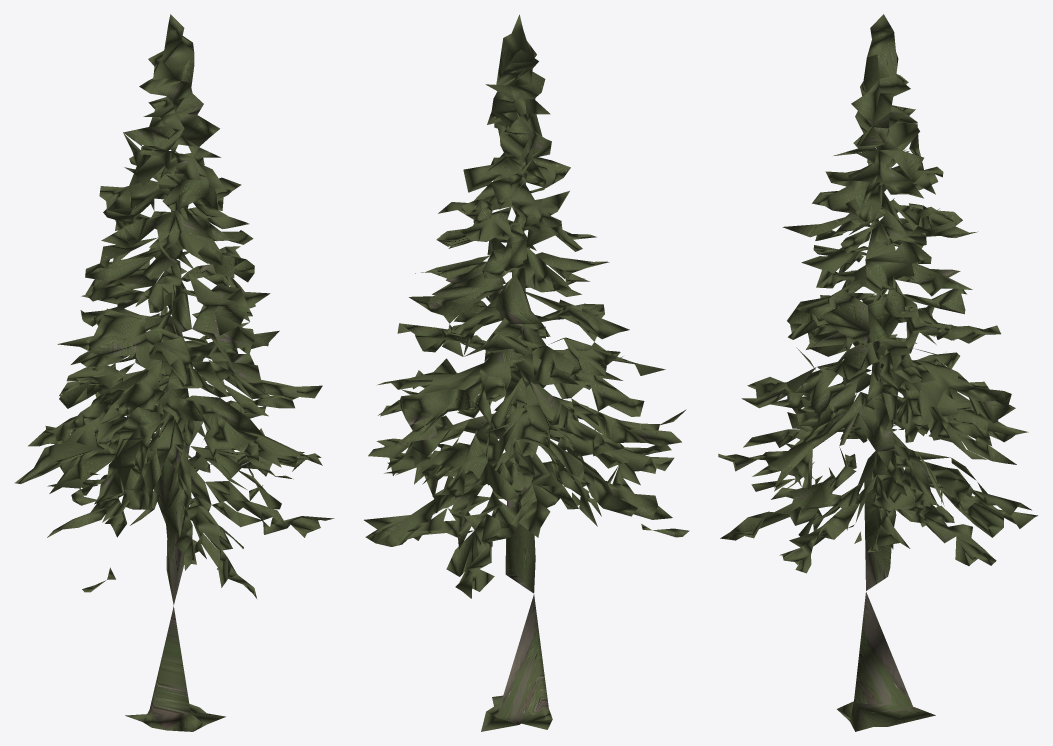
File: pine-tree.glb
3 renders of one model, left to right at view 1: azimuth 30°, elevation 25°; view 2: azimuth 150°, elevation 25°; view 3: azimuth 270°, elevation 25°, orthographic.
Parts seen in each view (by area): view 1: mesh_node; view 2: mesh_node; view 3: mesh_node.
Part boxes in pixels (x1=…): mesh_node: x1=14, y1=14, x2=334, y2=731; mesh_node: x1=364, y1=14, x2=689, y2=731; mesh_node: x1=718, y1=14, x2=1037, y2=731.
Size of the model in its own units: 0.7649 by 1.83 by 0.7589.
Materials: 1 (1 with a texture image).
